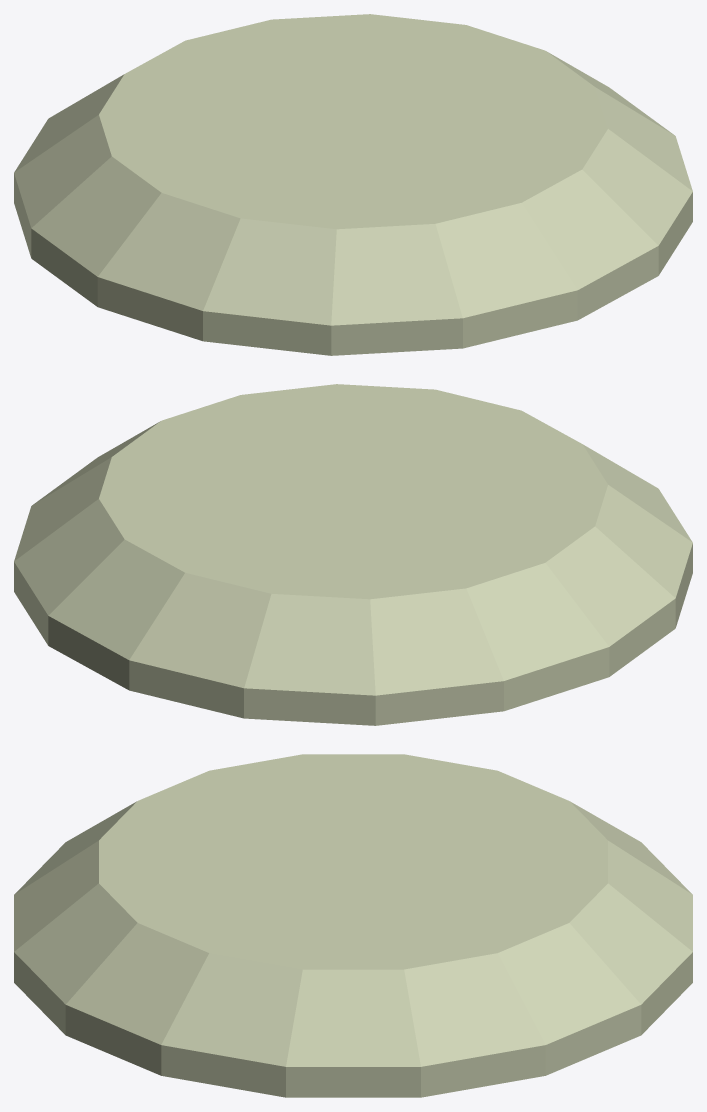
File: tucana_adapter_s2_s1p5_2_collider.obj
The picture shows the model from 3 angles, top to bottom: view 1: azimuth 30°, elevation 25°; view 2: azimuth 150°, elevation 25°; view 3: azimuth 270°, elevation 25°; orthographic projection.
Parts seen in each view (by area): view 1: tucana_adapter_s2_s1p5_2_collider; view 2: tucana_adapter_s2_s1p5_2_collider; view 3: tucana_adapter_s2_s1p5_2_collider.
Part boxes in pixels (<box>): tucana_adapter_s2_s1p5_2_collider: <box>14,14,692,355</box>; tucana_adapter_s2_s1p5_2_collider: <box>14,384,692,725</box>; tucana_adapter_s2_s1p5_2_collider: <box>14,754,692,1097</box>.
Bounding box in the file's own units: 2.5 × 0.375 × 2.5.
